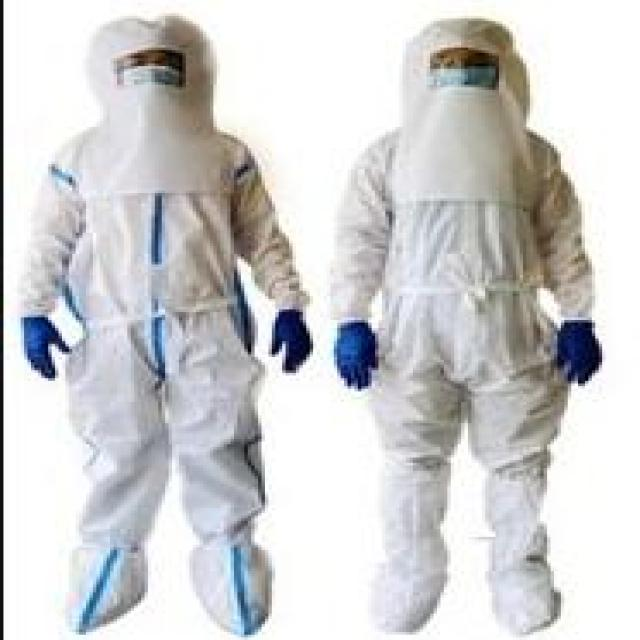Coverall: (14, 13, 310, 635), (313, 11, 599, 638)
Gloves: (516, 299, 619, 399), (320, 297, 396, 400), (3, 302, 86, 394), (255, 286, 320, 376)
